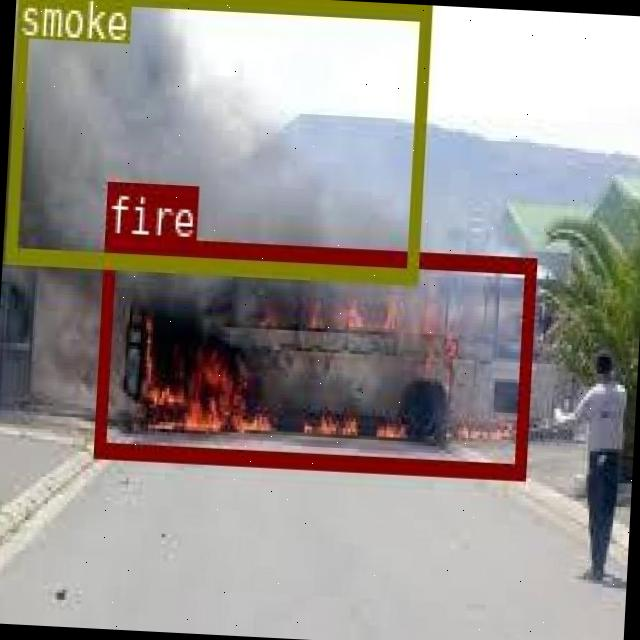fire: (93, 235, 534, 478)
smoke: (3, 0, 428, 279)
